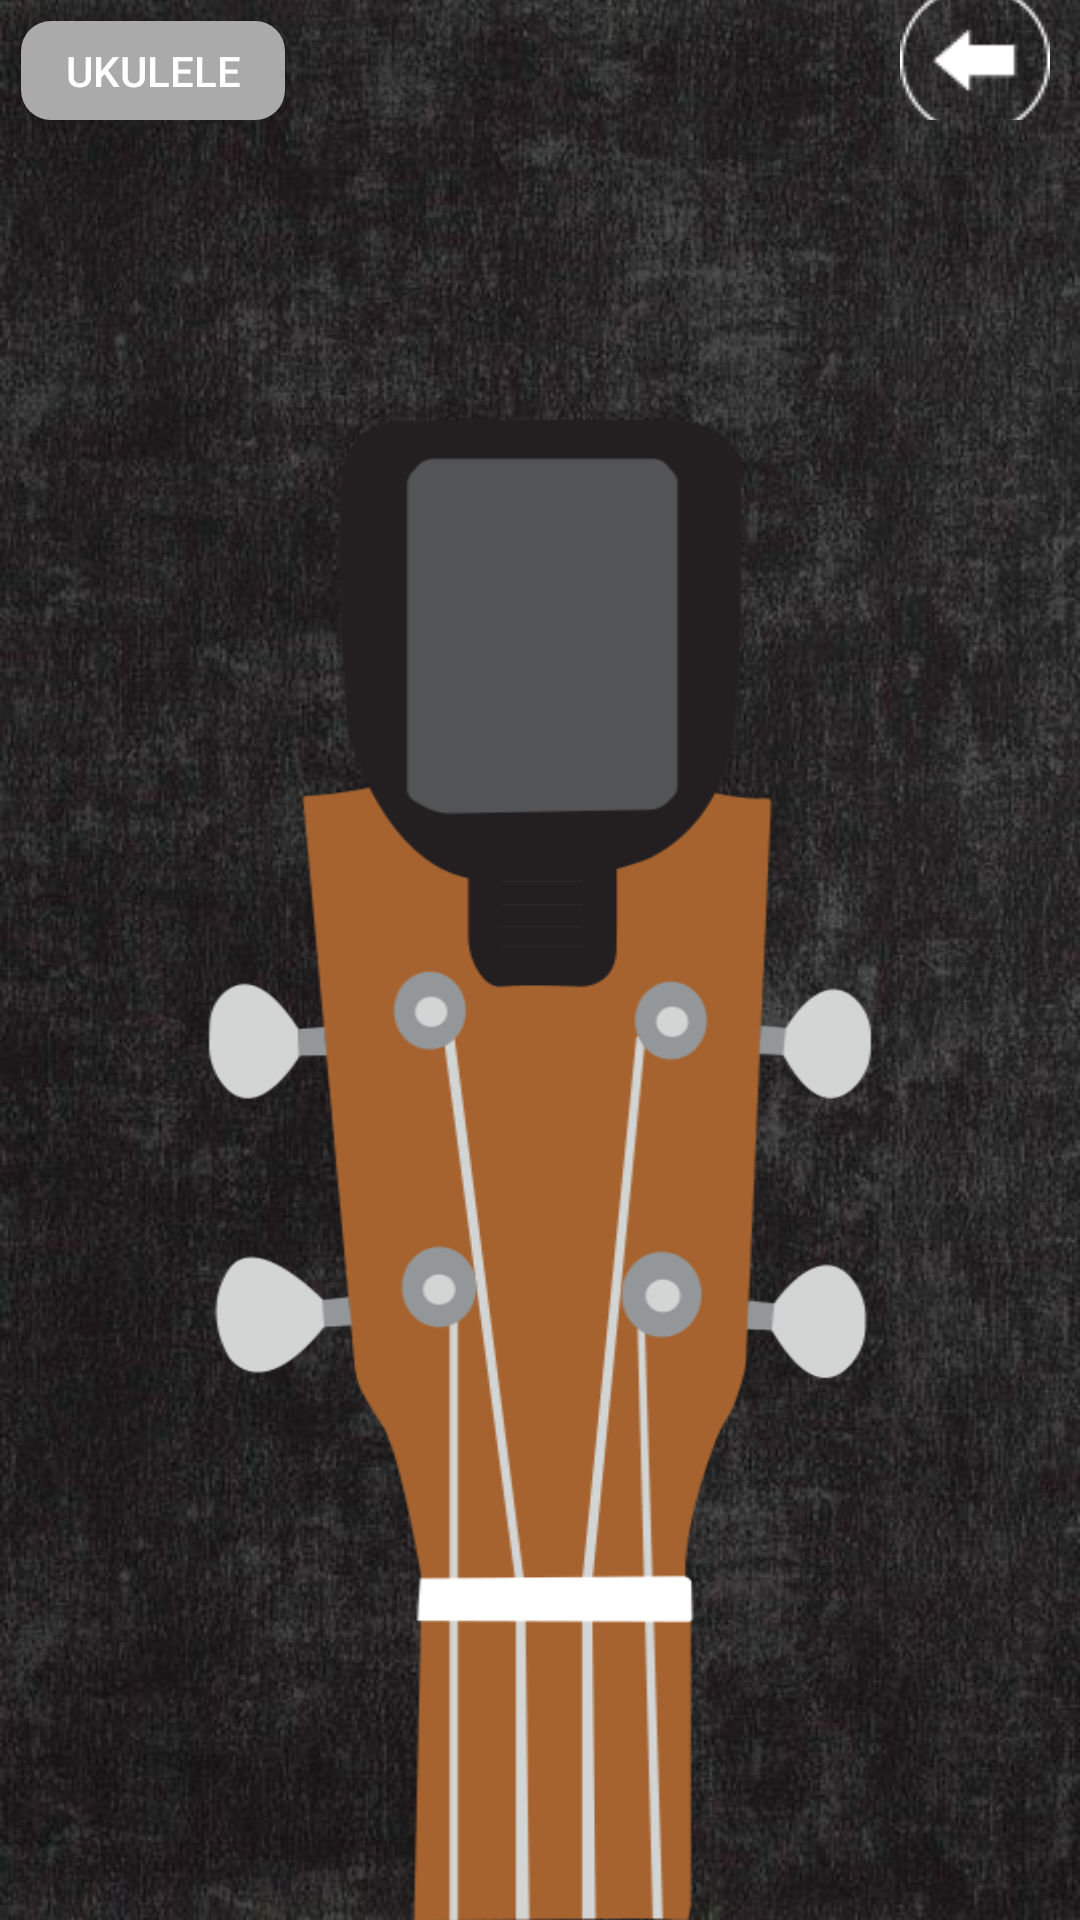

Icons on this 1080x1920 Android screen, each with its box as (x1, y1, x2, y2):
backiconwhite: (900, 0, 1050, 120)
